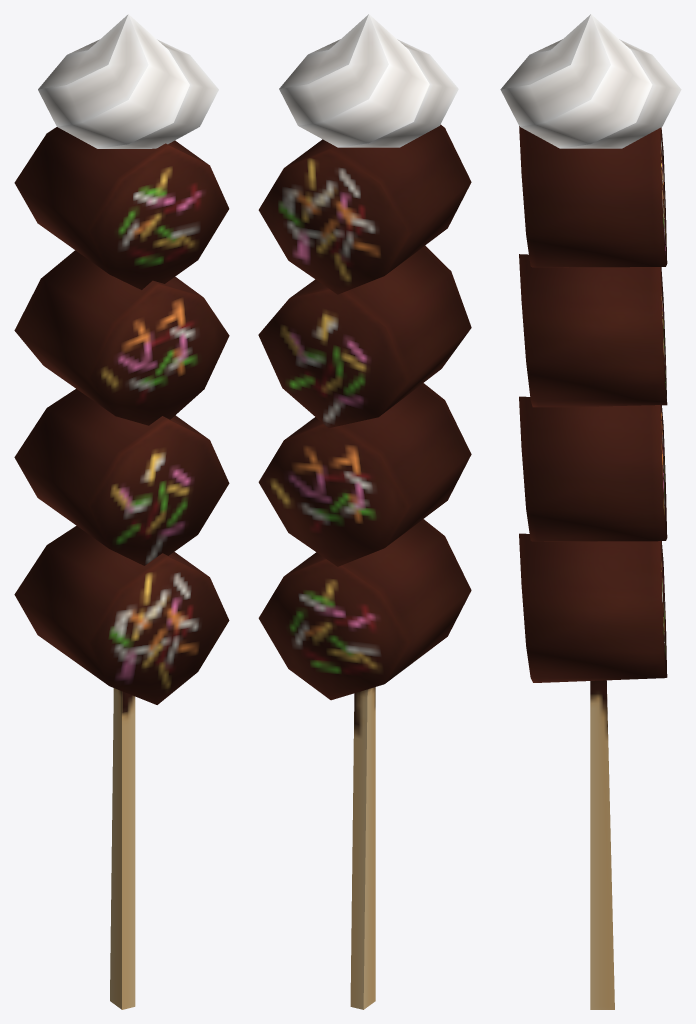
The model's file is jsf_ChocolateBanana_b03_c01.fbx.
The picture shows the model from 3 angles, left to right: view 1: azimuth 30°, elevation 25°; view 2: azimuth 150°, elevation 25°; view 3: azimuth 270°, elevation 25°; orthographic projection.
Visible parts, largest first — view 1: jsf_ChocolateBanana_b03_c01; view 2: jsf_ChocolateBanana_b03_c01; view 3: jsf_ChocolateBanana_b03_c01.
Part boxes in pixels (x1,y1,x2,y2): jsf_ChocolateBanana_b03_c01: (14,14,229,1009); jsf_ChocolateBanana_b03_c01: (258,14,471,1009); jsf_ChocolateBanana_b03_c01: (500,14,681,1009).
Bounding box in the file's own units: 4.05 × 25.18 × 4.16.
